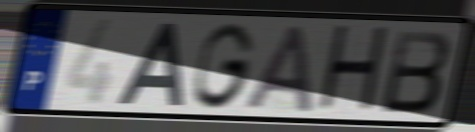4: (62, 15, 115, 108)
A: (242, 22, 316, 115), (114, 21, 185, 107)
B: (378, 27, 455, 115)
G: (191, 20, 258, 112)
H: (314, 22, 393, 119)
